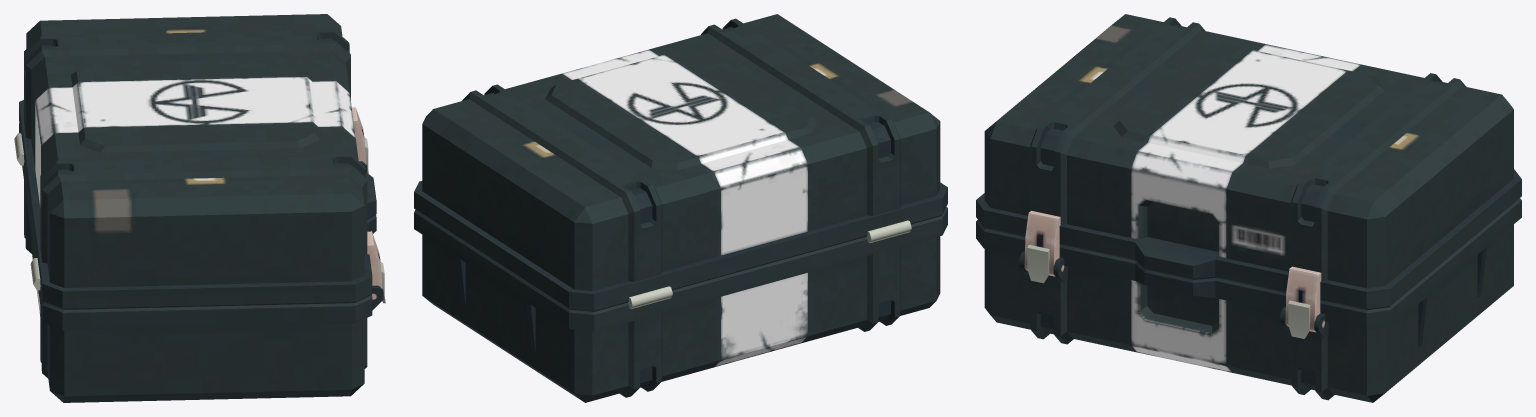
File: AirSupply (1).fbx
3 views of the same model, side by side, from view 1: azimuth 30°, elevation 25°; view 2: azimuth 150°, elevation 25°; view 3: azimuth 270°, elevation 25° (orthographic). The views are drawn at different scales.
Visible parts, largest first — view 1: Box_upper, Crate, Lock_L_01 1, Lock_R_01 1; view 2: Box_upper, Crate; view 3: Box_upper, Crate, Lock_R_01 1, Lock_L_01 1, Lock_L_02 1, Lock_R_02 1.
Boxes of the visible parts, x1,y1,x2,y2 form: Box_upper: (14, 14, 376, 309); Crate: (19, 123, 383, 402); Lock_L_01 1: (367, 231, 382, 288); Lock_R_01 1: (351, 107, 365, 163); Box_upper: (414, 14, 947, 311); Crate: (414, 207, 947, 402); Box_upper: (976, 14, 1521, 309); Crate: (976, 198, 1521, 402); Lock_R_01 1: (1285, 266, 1321, 332); Lock_L_01 1: (1024, 210, 1060, 276); Lock_L_02 1: (1027, 245, 1049, 283); Lock_R_02 1: (1288, 300, 1310, 338).
Size of the model in its own units: 1.42 by 0.682 by 1.6.
2 materials, 2 textured.
